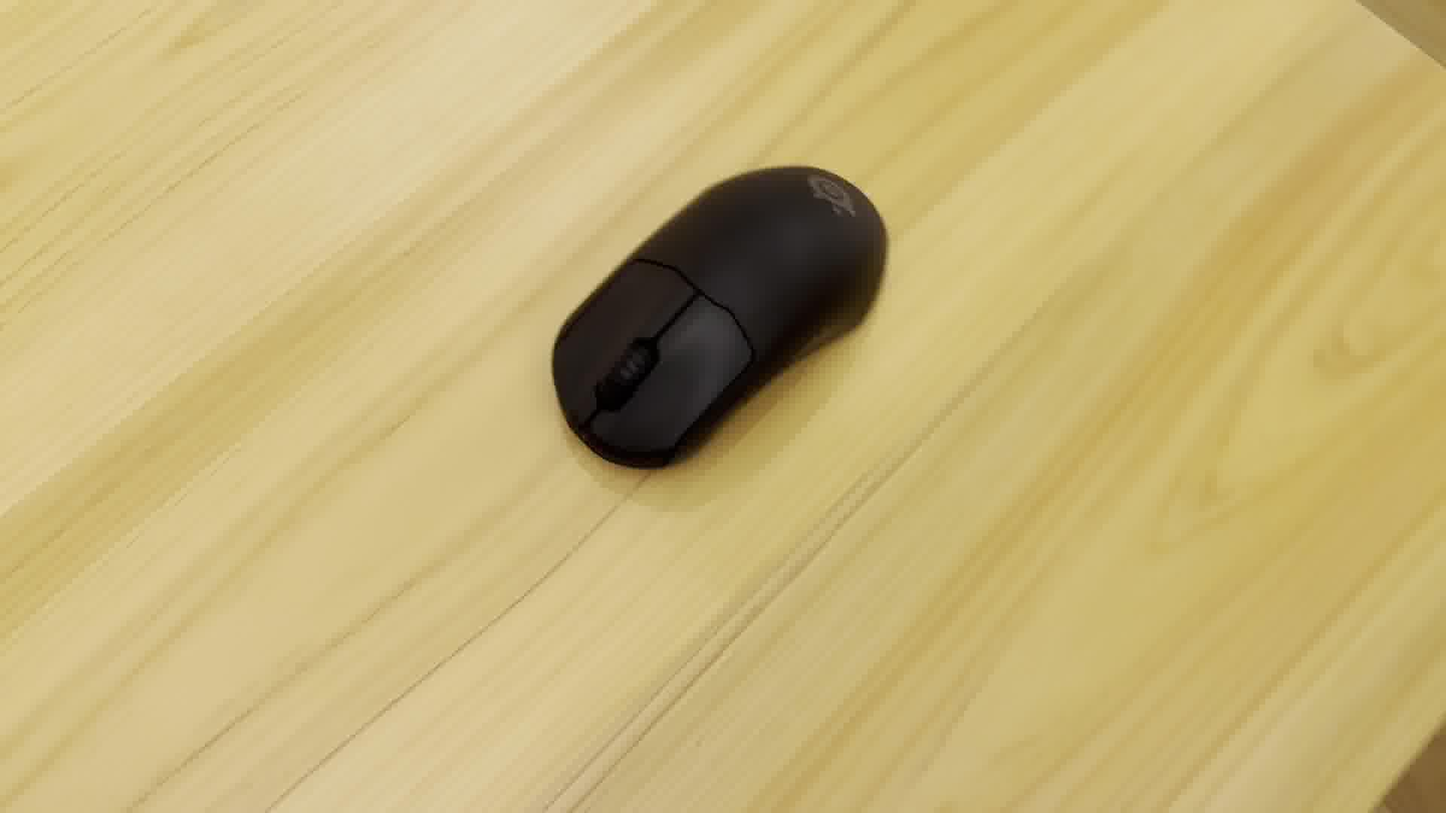mouse: (540, 155, 900, 484)
